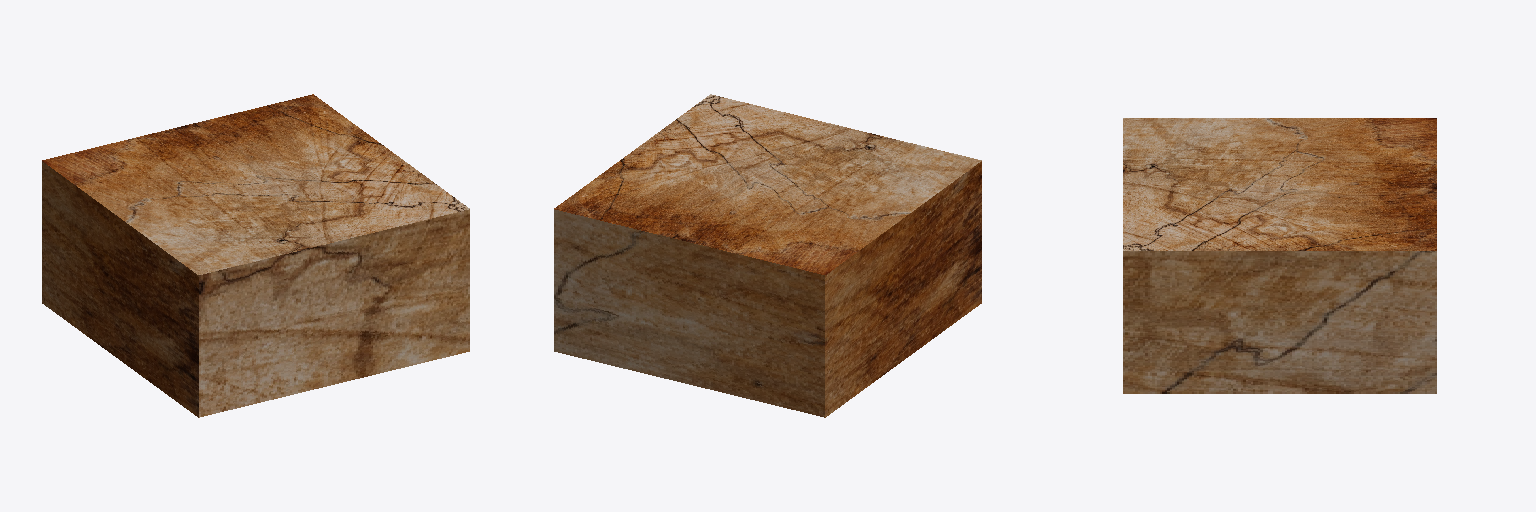
3 views of the same model, side by side, from view 1: azimuth 30°, elevation 25°; view 2: azimuth 150°, elevation 25°; view 3: azimuth 270°, elevation 25° (orthographic).
Parts seen in each view (by area): view 1: Cube.001; view 2: Cube.001; view 3: Cube.001.
Part boxes in pixels (x1,y1,x2,y2): Cube.001: (42,94,469,417); Cube.001: (554,94,981,417); Cube.001: (1123,118,1436,393).
Bounding box in the file's own units: 1 × 0.5 × 1.
Materials: 1 (1 with a texture image).